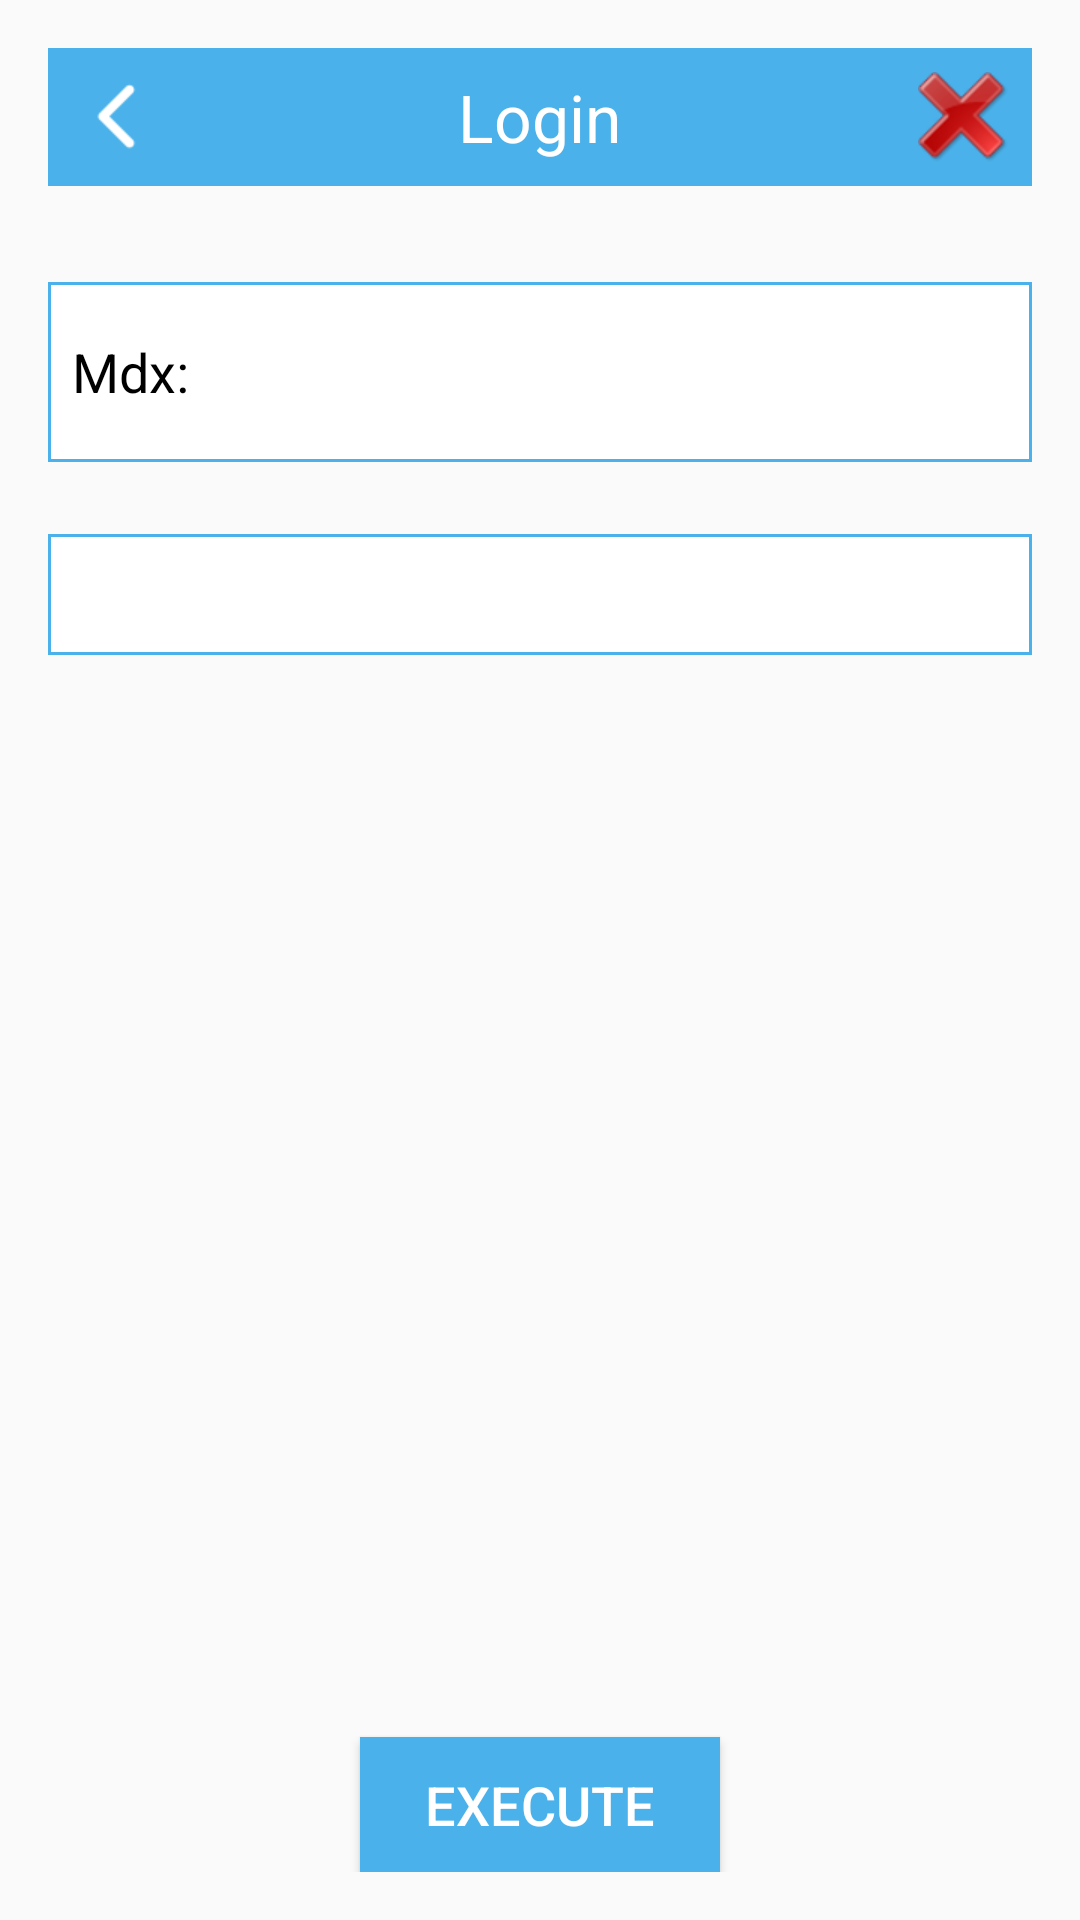

Where to tap for icons on this 1080px×1920px app screen, as point (x, y):
delete: point (963, 117)
navbar back: point (117, 117)
